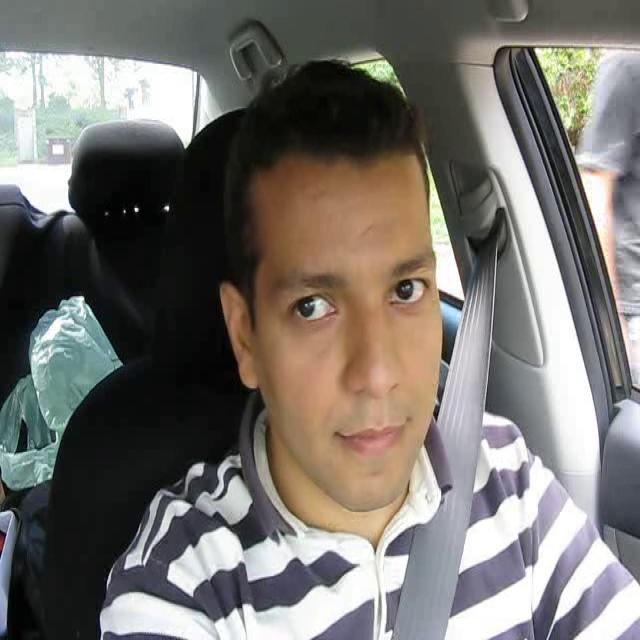close: (328, 418, 418, 455)
